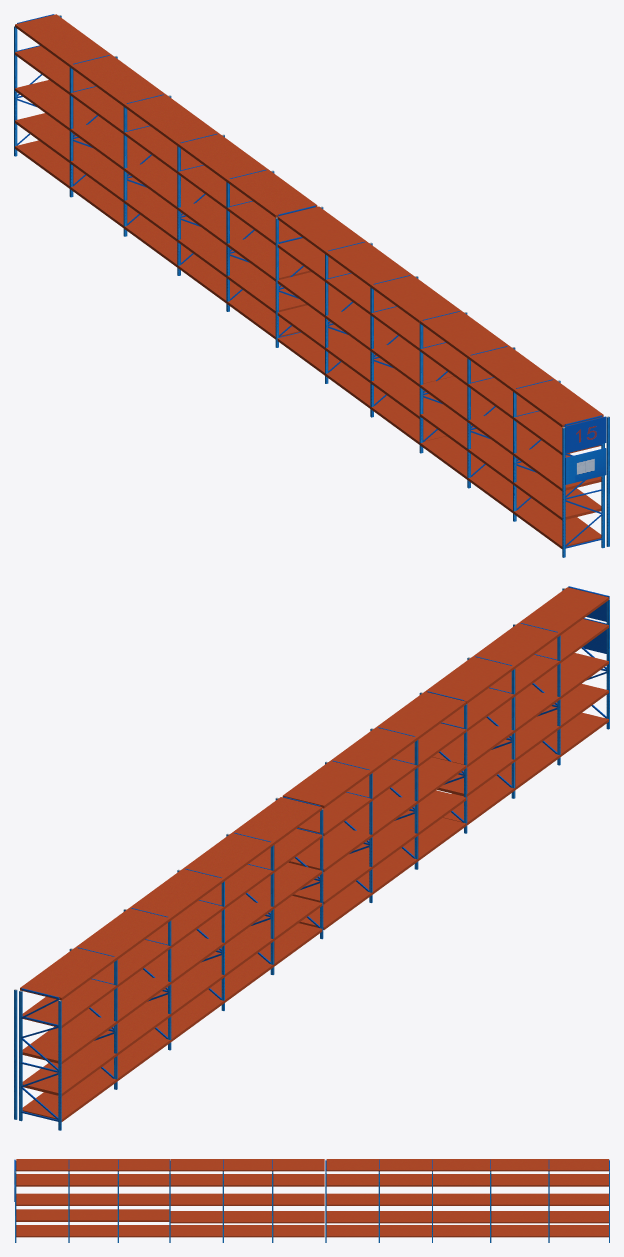
Rendered from Shelf15.FBX.
3 views of the same model, one above another, from view 1: azimuth 30°, elevation 25°; view 2: azimuth 150°, elevation 25°; view 3: azimuth 270°, elevation 25° (orthographic). The views are drawn at different scales.
Visible parts, largest first — view 1: 图形449, Box3724, Box3729; view 2: 图形449; view 3: 图形449.
Boxes of the visible parts, x1=… form: 图形449: x1=14, y1=14, x2=609, y2=557; Box3724: x1=565, y1=448, x2=606, y2=484; Box3729: x1=565, y1=416, x2=606, y2=452; 图形449: x1=14, y1=587, x2=609, y2=1130; 图形449: x1=15, y1=1159, x2=609, y2=1242.
Bounding box in the file's own units: 0.9109 × 18.58 × 2.47.
